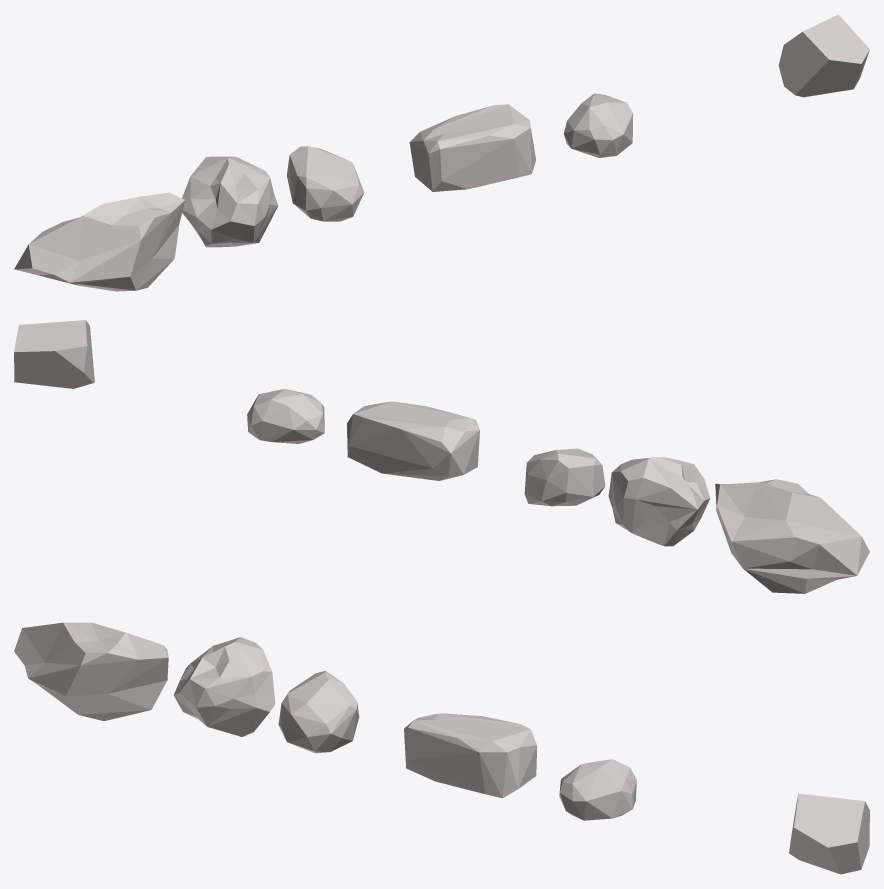
The model's file is rocks.fbx.
3 renders of one model, top to bottom at view 1: azimuth 30°, elevation 25°; view 2: azimuth 150°, elevation 25°; view 3: azimuth 330°, elevation 25°, orthographic.
Parts seen in each view (by area): view 1: rock.1, rock.4, rock.2, rock.6, rock.3, rock.5; view 2: rock.1, rock.4, rock.2, rock.6, rock.3, rock.5; view 3: rock.1, rock.4, rock.2, rock.6, rock.3, rock.5.
Boxes of the visible parts, left/top/right/bottom form: rock.1: left=14, top=192, right=184, bottom=291; rock.4: left=409, top=104, right=535, bottom=191; rock.2: left=182, top=156, right=278, bottom=247; rock.6: left=778, top=14, right=869, bottom=97; rock.3: left=286, top=146, right=364, bottom=221; rock.5: left=563, top=93, right=633, bottom=157; rock.1: left=715, top=479, right=869, bottom=593; rock.4: left=347, top=401, right=479, bottom=480; rock.2: left=608, top=457, right=710, bottom=546; rock.6: left=14, top=320, right=94, bottom=388; rock.3: left=524, top=448, right=605, bottom=506; rock.5: left=247, top=389, right=324, bottom=443; rock.1: left=14, top=622, right=168, bottom=720; rock.4: left=404, top=713, right=536, bottom=798; rock.2: left=173, top=637, right=275, bottom=736; rock.6: left=789, top=793, right=869, bottom=874; rock.3: left=278, top=670, right=359, bottom=753; rock.5: left=559, top=759, right=636, bottom=820.
Bounding box in the file's own units: 32.28 × 3.42 × 3.59.
